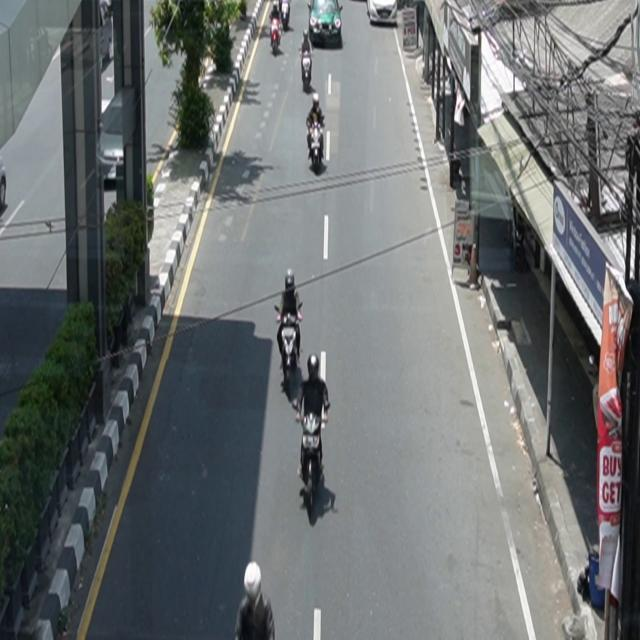car: (308, 1, 344, 47), (367, 1, 398, 26)
